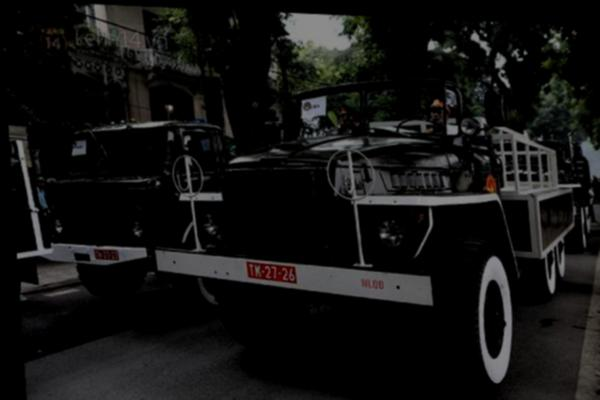License_Plate: (246, 259, 304, 288), (90, 246, 127, 263)
